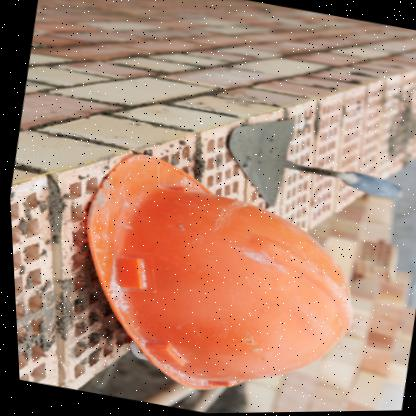helmet: (55, 146, 384, 414)
